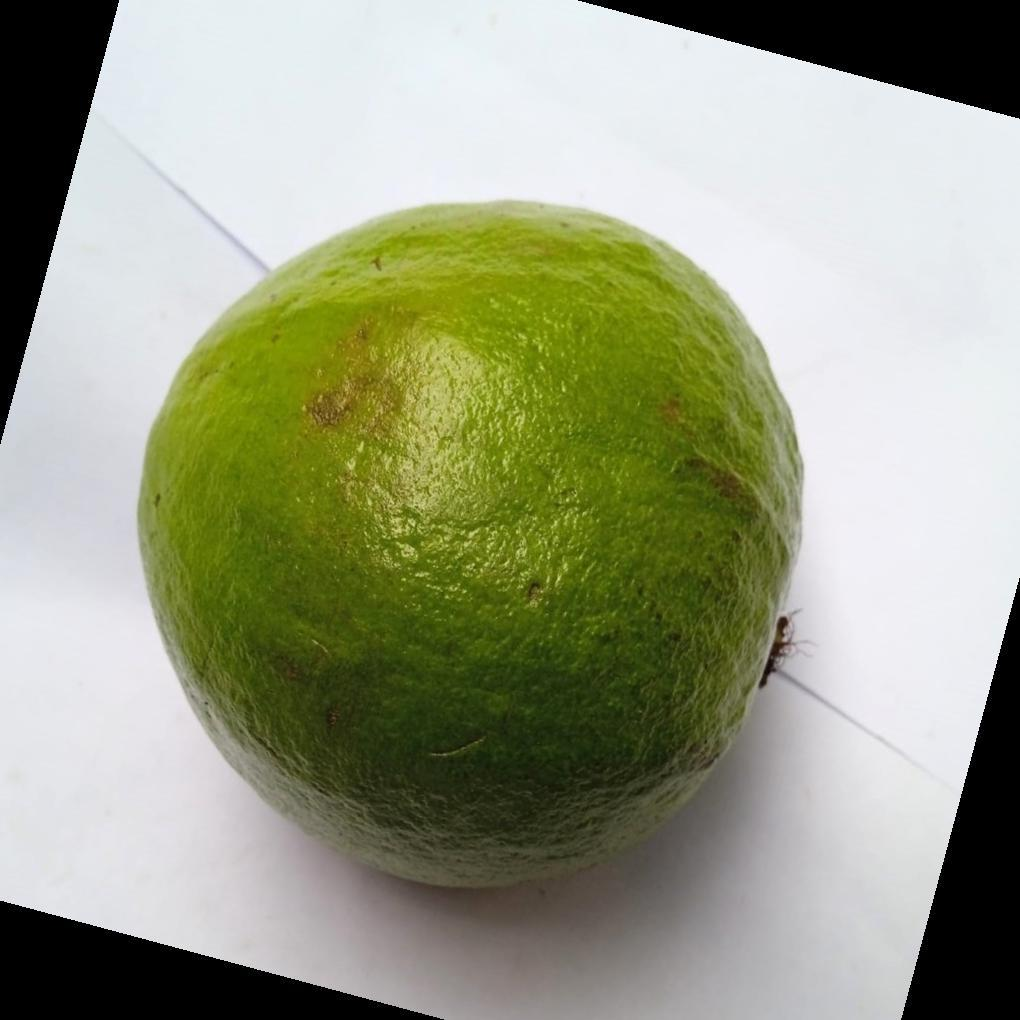FreshGuava: (134, 200, 805, 897)
